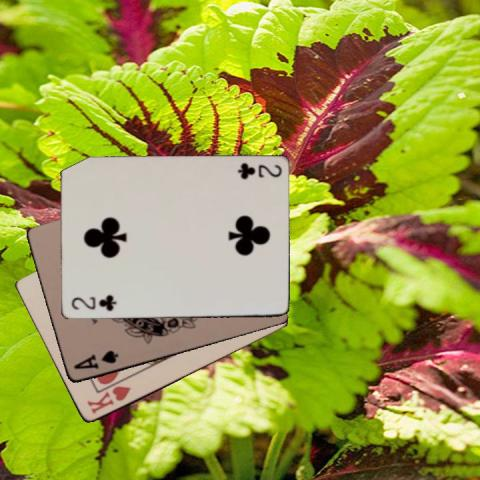2c: (68, 292, 117, 313), (235, 160, 283, 180)
As: (70, 347, 120, 372)
Kh: (84, 383, 132, 416)
